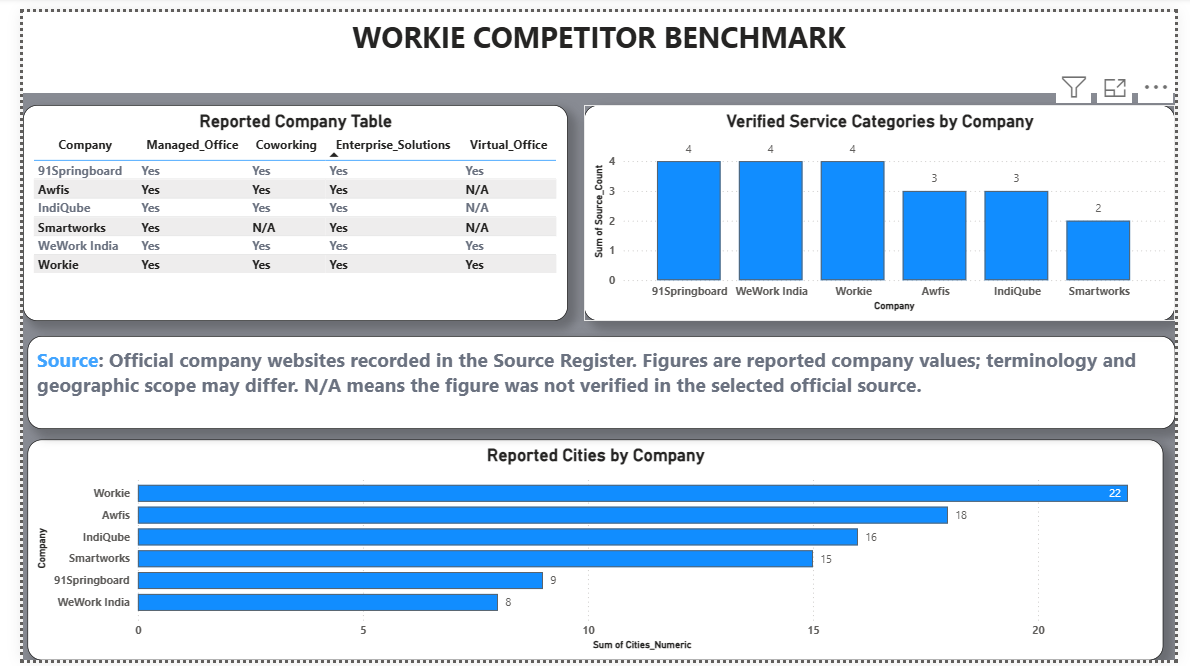

The dashboard page shown, as its layout file describes it:
{"tool":"powerbi","page":{"name":"Competitor Benchmark","canvas":[1280,720],"ordinal":2},"visuals":[{"type":"textbox","box":[0,0,1280,90],"z":0},{"type":"clusteredBarChart","title":"Reported Cities by Company","fields":{"Category":["Workie_Competitor_Benchmark_Final.Company"],"Y":["Sum(Workie_Competitor_Benchmark_Final.Cities_Numeric)"]},"box":[5,475,1261.7,245],"z":1000},{"type":"tableEx","title":"Reported Company Table","fields":{"Values":["Workie_Competitor_Benchmark_Final.Company","Workie_Competitor_Benchmark_Final.Managed_Office","Workie_Competitor_Benchmark_Final.Coworking","Workie_Competitor_Benchmark_Final.Enterprise_Solutions","Workie_Competitor_Benchmark_Final.Virtual_Office"]},"box":[0,103.3,605,240],"z":1001},{"type":"textbox","box":[5,360,1275,103.3],"z":1002},{"type":"clusteredColumnChart","title":"Verified Service Categories by Company","fields":{"Category":["Workie_Competitor_Benchmark_Final.Company"],"Y":["Sum(Workie_Competitor_Benchmark_Final.Source_Count)"]},"box":[623.3,103.3,656.7,240],"z":1003}]}

Visuals, with their boxes in screenshot pixels (x1, y1, x2, y2), scaled from the page's 1280x720 canvas onto the 1190x666 screenshot:
textbox: 0,0,1189,83
"Reported Cities by Company" clusteredBarChart: 5,439,1178,665
"Reported Company Table" tableEx: 0,96,562,318
textbox: 5,333,1189,429
"Verified Service Categories by Company" clusteredColumnChart: 579,96,1189,318
